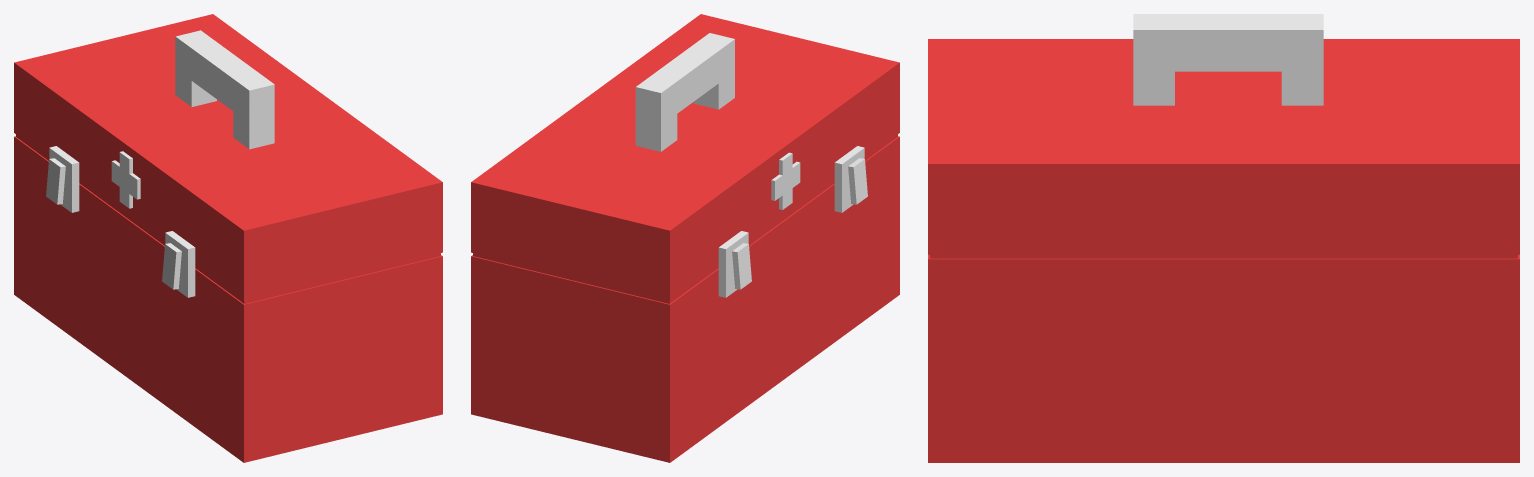
Rendered from MedicBox.fbx.
3 renders of one model, left to right at view 1: azimuth 30°, elevation 25°; view 2: azimuth 150°, elevation 25°; view 3: azimuth 270°, elevation 25°, orthographic. The views are drawn at different scales.
Parts seen in each view (by area): view 1: Box004; view 2: Box004; view 3: Box004.
Boxes of the visible parts, x1=… form: Box004: x1=14, y1=14, x2=442, y2=462; Box004: x1=471, y1=14, x2=899, y2=462; Box004: x1=928, y1=14, x2=1519, y2=462.
Bounding box in the file's own units: 21.73 × 27.89 × 39.62.
